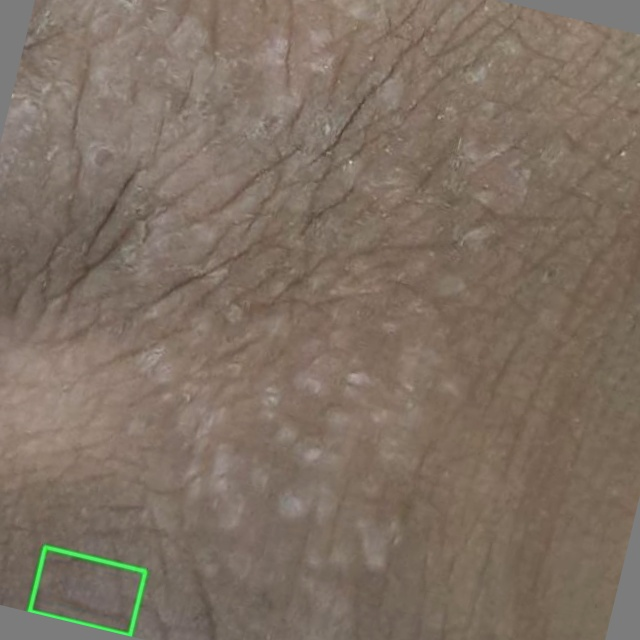Eczema: (29, 547, 145, 635)
